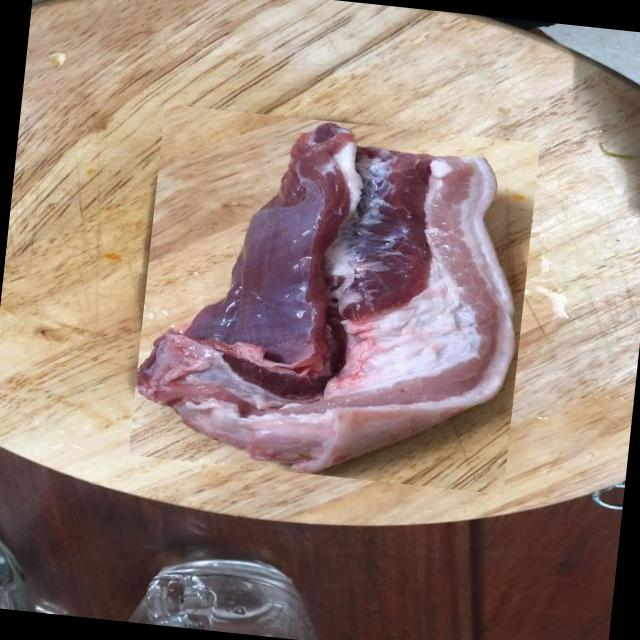chicken: (127, 103, 540, 496)
